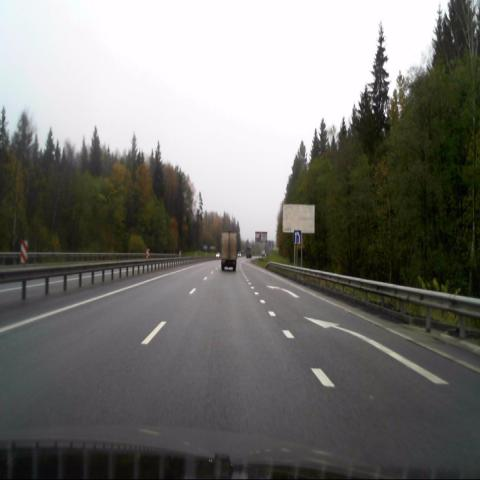5_15_5: (294, 229, 301, 244)
